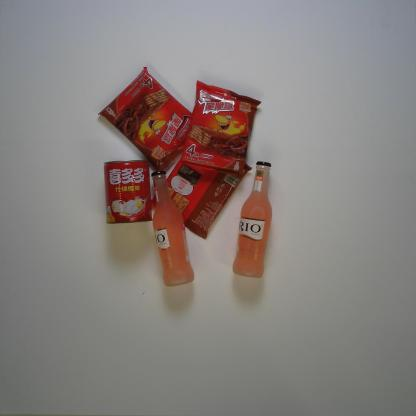Alcohol: (150, 169, 196, 288), (231, 161, 273, 279)
Canned Food: (102, 159, 153, 224)
Dessert: (98, 66, 192, 171), (150, 157, 253, 240), (178, 79, 262, 177)
